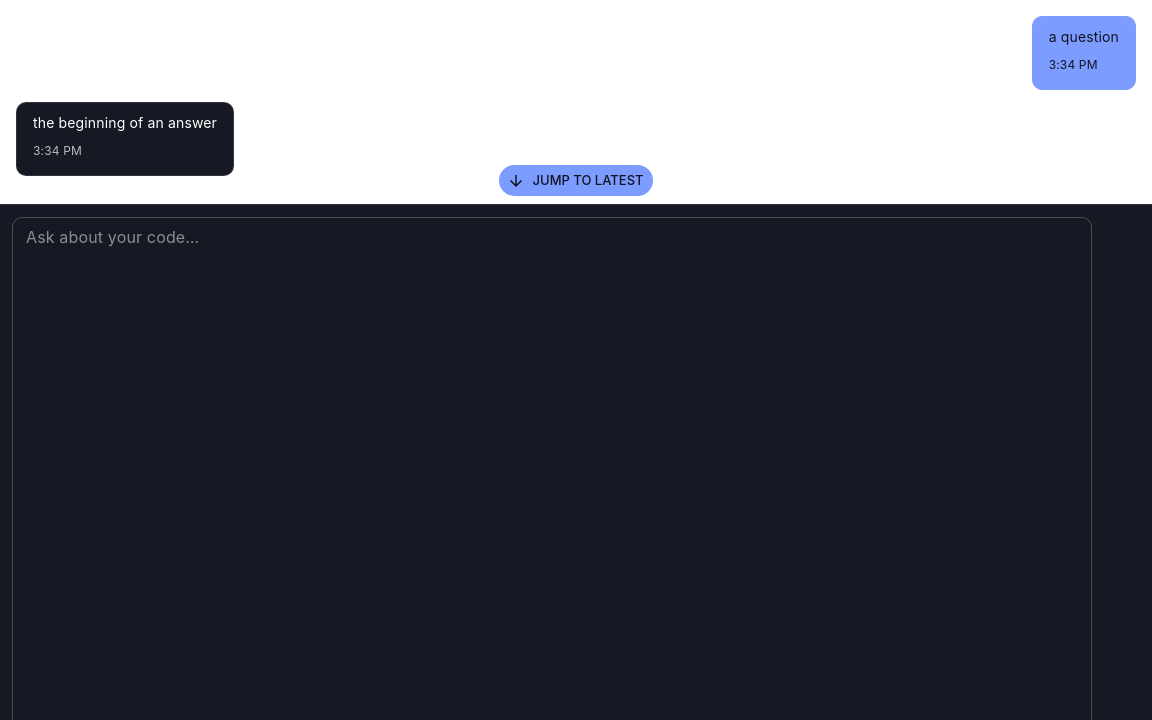
Test: ChatPanel follows the stream only when the reader is at the bottom › scrolls back to the newest message when it is clicked, and stands down
The width and height of the screenshot is (1152, 720).
(page scrolled)
Click the button with test id "jump-to-latest": (576, 181) [499,165,654,196]
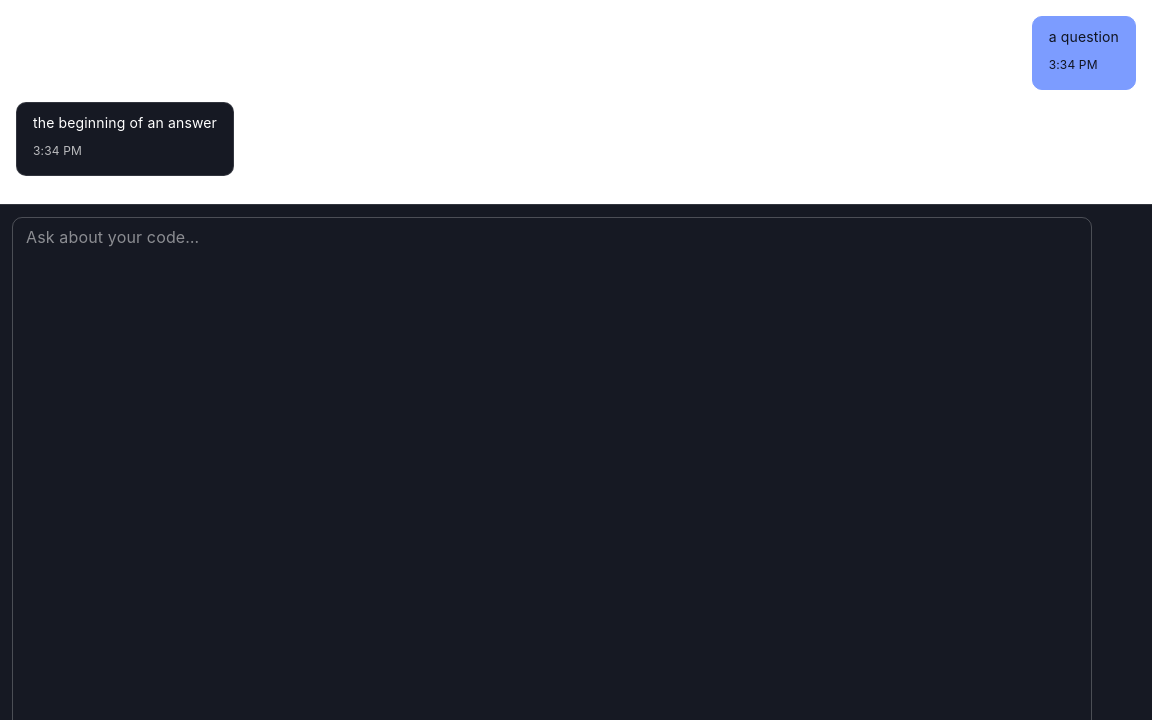
Now the button with test id "jump-to-latest" is gone
